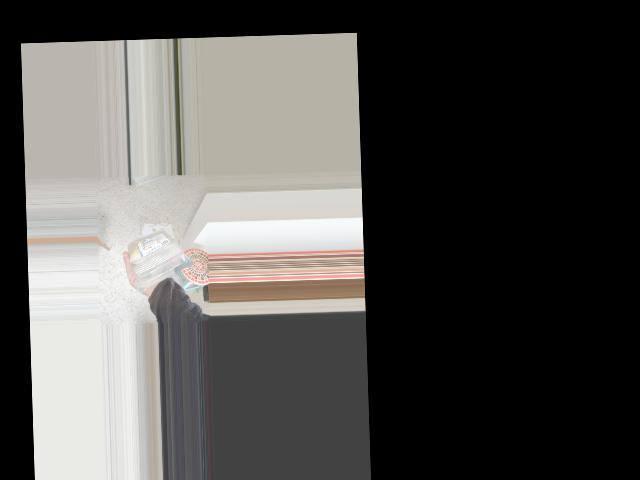cheese: (128, 217, 197, 293)
